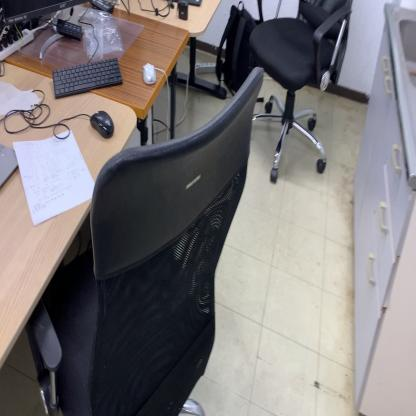chair: (27, 64, 266, 416), (249, 0, 355, 185)
